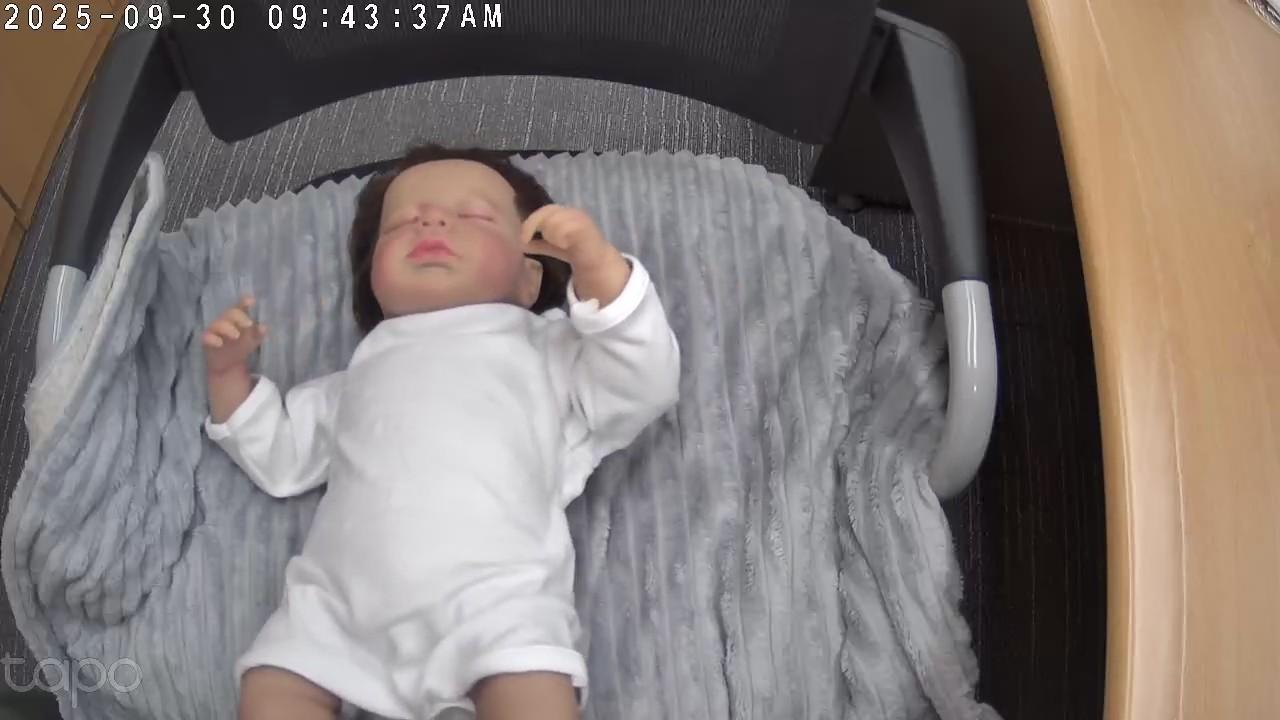hand: (204, 293, 267, 365), (521, 203, 598, 261)
